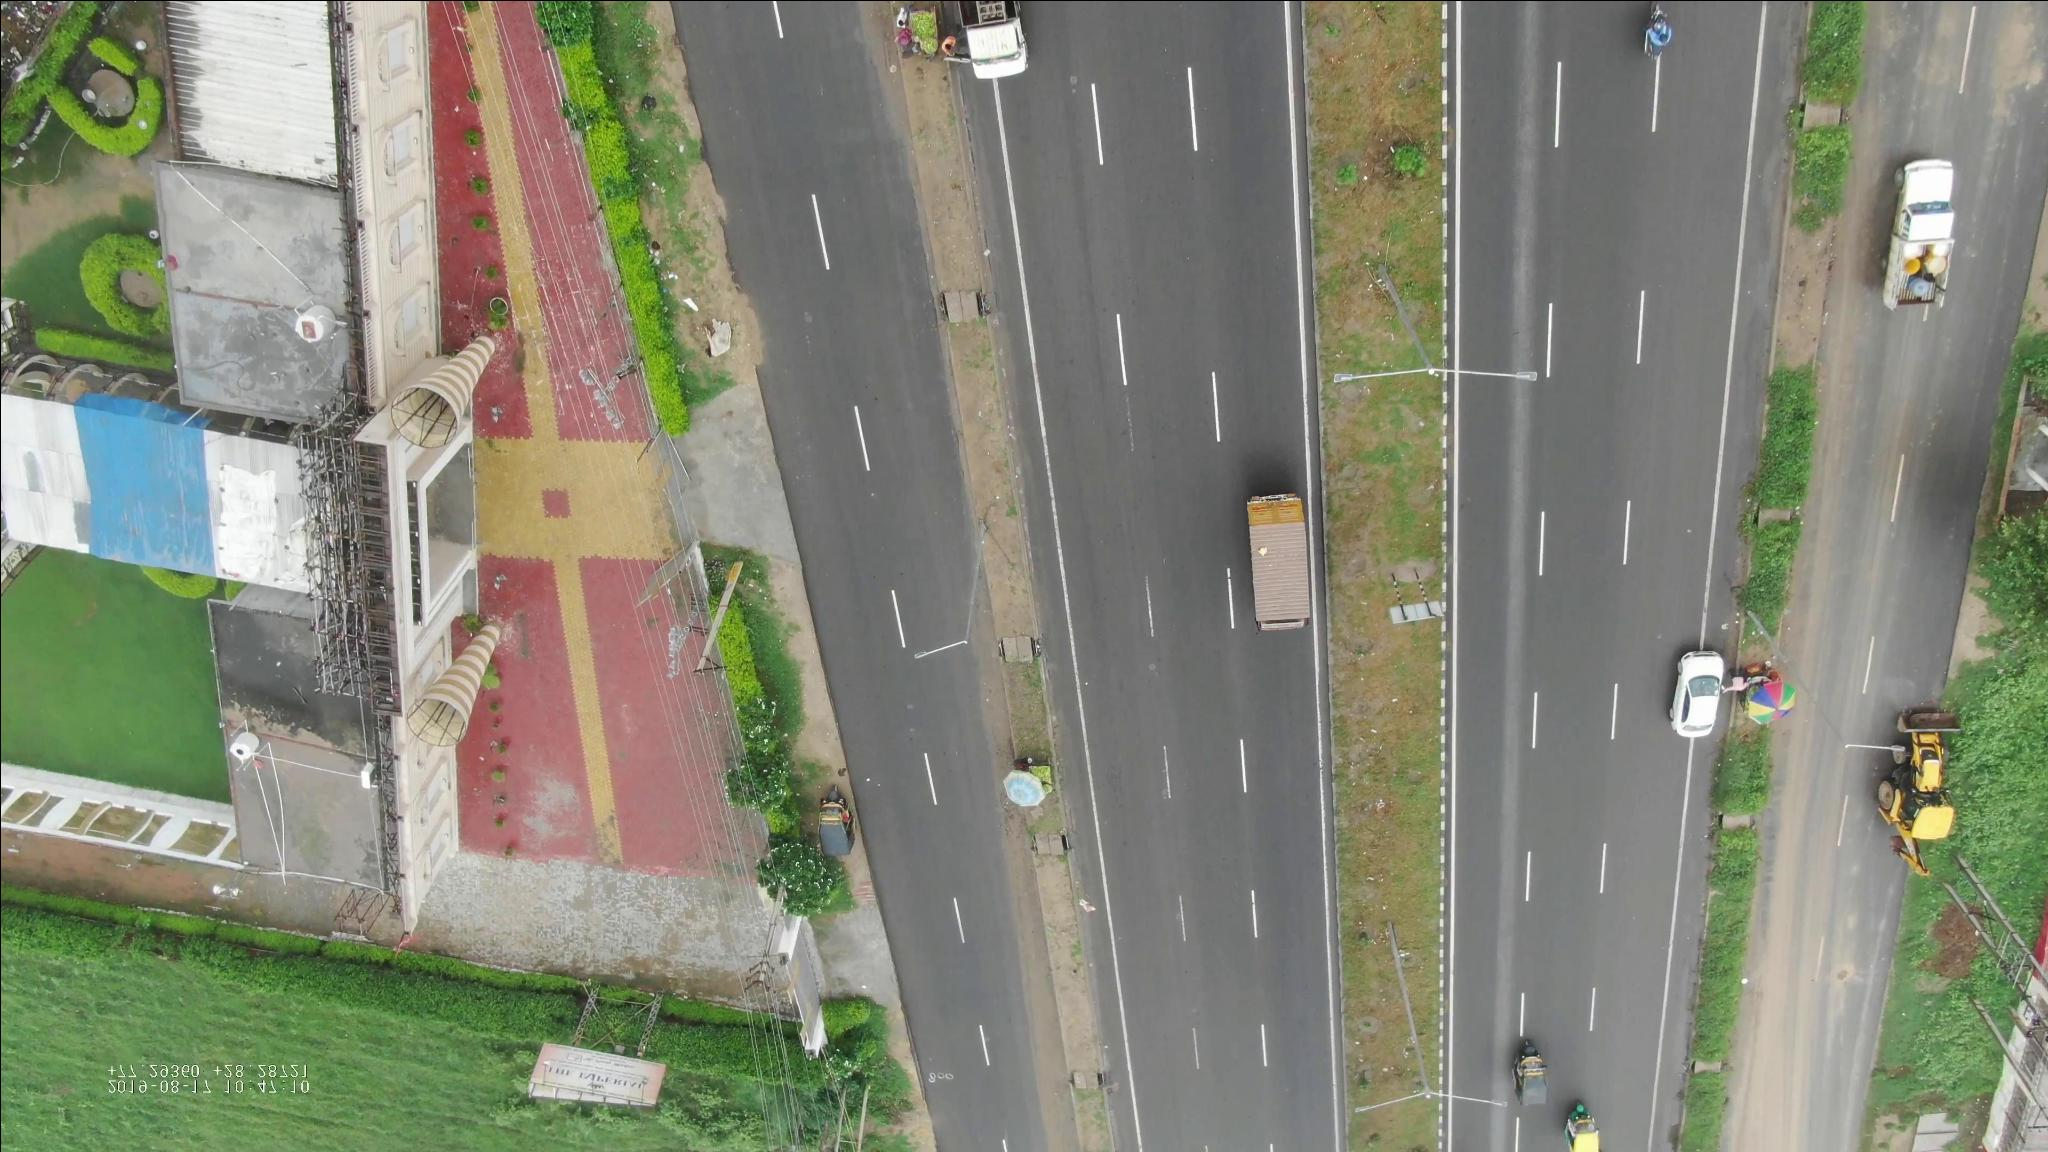Muddy_road: (1724, 973, 1845, 1146)
